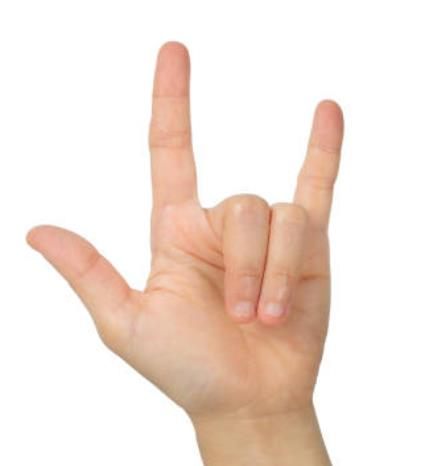back: (9, 35, 352, 387)
